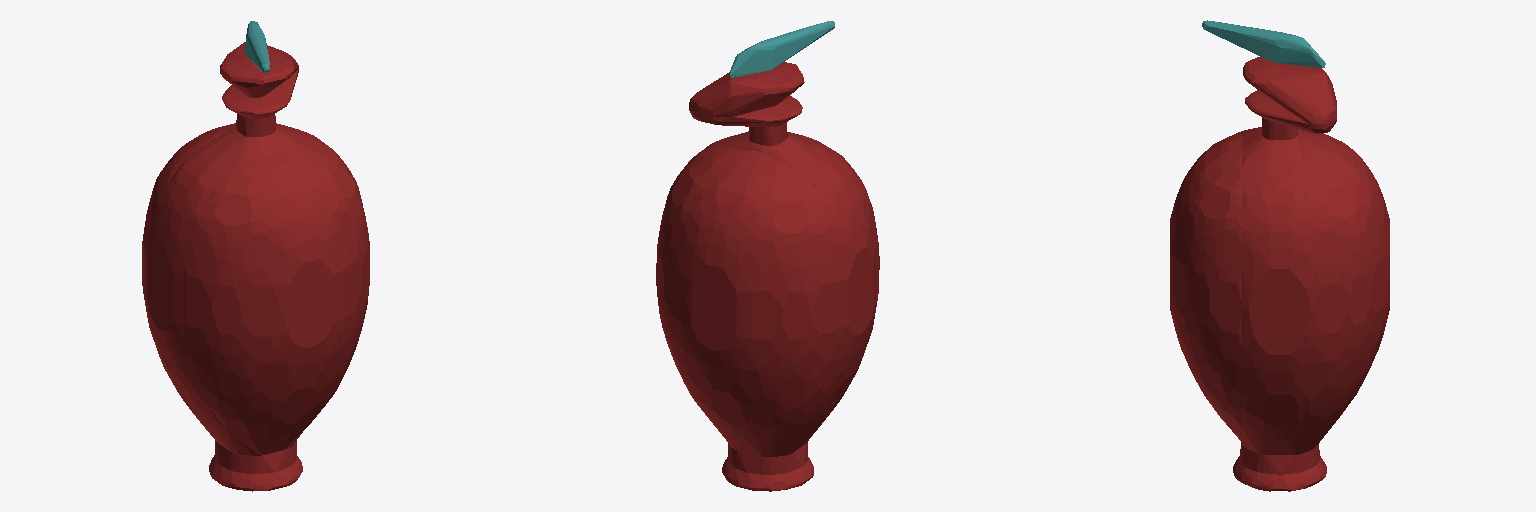
The robot description file, URDF, robot "root":
<robot name="root">
  <link name="bottle_body">
    <inertial>
      <origin xyz="0 0 0" rpy="0 0 0"/>
    </inertial>
    <mass value="1.00E-02"/>
    <visual>
      <origin xyz="0 0 0" rpy="0 0 0"/>
      <geometry>
        <mesh filename="core-bottle-adace8a468fd575037939c05190e283f-coacd_convex_piece_2.obj" scale="1.0000E-01 1.0000E-01 1.0000E-01"/>
      </geometry>
      <material name="">
        <color rgba="6.00E-01 2.00E-01 2.00E-01 1"/>
      </material>
    </visual>
    <collision>
      <origin xyz="0 0 0" rpy="0 0 0"/>
      <geometry>
        <mesh filename="core-bottle-adace8a468fd575037939c05190e283f-coacd_convex_piece_2.obj" scale="1.0000E-01 1.0000E-01 1.0000E-01"/>
      </geometry>
    </collision>
    <visual>
      <origin xyz="0 0 0" rpy="0 0 0"/>
      <geometry>
        <mesh filename="core-bottle-adace8a468fd575037939c05190e283f-coacd_convex_piece_10.obj" scale="1.0000E-01 1.0000E-01 1.0000E-01"/>
      </geometry>
      <material name="">
        <color rgba="6.00E-01 2.00E-01 2.00E-01 1"/>
      </material>
    </visual>
    <collision>
      <origin xyz="0 0 0" rpy="0 0 0"/>
      <geometry>
        <mesh filename="core-bottle-adace8a468fd575037939c05190e283f-coacd_convex_piece_10.obj" scale="1.0000E-01 1.0000E-01 1.0000E-01"/>
      </geometry>
    </collision>
    <visual>
      <origin xyz="0 0 0" rpy="0 0 0"/>
      <geometry>
        <mesh filename="core-bottle-adace8a468fd575037939c05190e283f-coacd_convex_piece_8.obj" scale="1.0000E-01 1.0000E-01 1.0000E-01"/>
      </geometry>
      <material name="">
        <color rgba="6.00E-01 2.00E-01 2.00E-01 1"/>
      </material>
    </visual>
    <collision>
      <origin xyz="0 0 0" rpy="0 0 0"/>
      <geometry>
        <mesh filename="core-bottle-adace8a468fd575037939c05190e283f-coacd_convex_piece_8.obj" scale="1.0000E-01 1.0000E-01 1.0000E-01"/>
      </geometry>
    </collision>
    <visual>
      <origin xyz="0 0 0" rpy="0 0 0"/>
      <geometry>
        <mesh filename="core-bottle-adace8a468fd575037939c05190e283f-coacd_convex_piece_4.obj" scale="1.0000E-01 1.0000E-01 1.0000E-01"/>
      </geometry>
      <material name="">
        <color rgba="6.00E-01 2.00E-01 2.00E-01 1"/>
      </material>
    </visual>
    <collision>
      <origin xyz="0 0 0" rpy="0 0 0"/>
      <geometry>
        <mesh filename="core-bottle-adace8a468fd575037939c05190e283f-coacd_convex_piece_4.obj" scale="1.0000E-01 1.0000E-01 1.0000E-01"/>
      </geometry>
    </collision>
    <visual>
      <origin xyz="0 0 0" rpy="0 0 0"/>
      <geometry>
        <mesh filename="core-bottle-adace8a468fd575037939c05190e283f-coacd_convex_piece_3.obj" scale="1.0000E-01 1.0000E-01 1.0000E-01"/>
      </geometry>
      <material name="">
        <color rgba="6.00E-01 2.00E-01 2.00E-01 1"/>
      </material>
    </visual>
    <collision>
      <origin xyz="0 0 0" rpy="0 0 0"/>
      <geometry>
        <mesh filename="core-bottle-adace8a468fd575037939c05190e283f-coacd_convex_piece_3.obj" scale="1.0000E-01 1.0000E-01 1.0000E-01"/>
      </geometry>
    </collision>
    <visual>
      <origin xyz="0 0 0" rpy="0 0 0"/>
      <geometry>
        <mesh filename="core-bottle-adace8a468fd575037939c05190e283f-coacd_convex_piece_7.obj" scale="1.0000E-01 1.0000E-01 1.0000E-01"/>
      </geometry>
      <material name="">
        <color rgba="6.00E-01 2.00E-01 2.00E-01 1"/>
      </material>
    </visual>
    <collision>
      <origin xyz="0 0 0" rpy="0 0 0"/>
      <geometry>
        <mesh filename="core-bottle-adace8a468fd575037939c05190e283f-coacd_convex_piece_7.obj" scale="1.0000E-01 1.0000E-01 1.0000E-01"/>
      </geometry>
    </collision>
    <visual>
      <origin xyz="0 0 0" rpy="0 0 0"/>
      <geometry>
        <mesh filename="core-bottle-adace8a468fd575037939c05190e283f-coacd_convex_piece_5.obj" scale="1.0000E-01 1.0000E-01 1.0000E-01"/>
      </geometry>
      <material name="">
        <color rgba="6.00E-01 2.00E-01 2.00E-01 1"/>
      </material>
    </visual>
    <collision>
      <origin xyz="0 0 0" rpy="0 0 0"/>
      <geometry>
        <mesh filename="core-bottle-adace8a468fd575037939c05190e283f-coacd_convex_piece_5.obj" scale="1.0000E-01 1.0000E-01 1.0000E-01"/>
      </geometry>
    </collision>
    <visual>
      <origin xyz="0 0 0" rpy="0 0 0"/>
      <geometry>
        <mesh filename="core-bottle-adace8a468fd575037939c05190e283f-coacd_convex_piece_6.obj" scale="1.0000E-01 1.0000E-01 1.0000E-01"/>
      </geometry>
      <material name="">
        <color rgba="6.00E-01 2.00E-01 2.00E-01 1"/>
      </material>
    </visual>
    <collision>
      <origin xyz="0 0 0" rpy="0 0 0"/>
      <geometry>
        <mesh filename="core-bottle-adace8a468fd575037939c05190e283f-coacd_convex_piece_6.obj" scale="1.0000E-01 1.0000E-01 1.0000E-01"/>
      </geometry>
    </collision>
    <visual>
      <origin xyz="0 0 0" rpy="0 0 0"/>
      <geometry>
        <mesh filename="core-bottle-adace8a468fd575037939c05190e283f-coacd_convex_piece_1.obj" scale="1.0000E-01 1.0000E-01 1.0000E-01"/>
      </geometry>
      <material name="">
        <color rgba="6.00E-01 2.00E-01 2.00E-01 1"/>
      </material>
    </visual>
    <collision>
      <origin xyz="0 0 0" rpy="0 0 0"/>
      <geometry>
        <mesh filename="core-bottle-adace8a468fd575037939c05190e283f-coacd_convex_piece_1.obj" scale="1.0000E-01 1.0000E-01 1.0000E-01"/>
      </geometry>
    </collision>
    <visual>
      <origin xyz="0 0 0" rpy="0 0 0"/>
      <geometry>
        <mesh filename="core-bottle-adace8a468fd575037939c05190e283f-coacd_convex_piece_9.obj" scale="1.0000E-01 1.0000E-01 1.0000E-01"/>
      </geometry>
      <material name="">
        <color rgba="6.00E-01 2.00E-01 2.00E-01 1"/>
      </material>
    </visual>
    <collision>
      <origin xyz="0 0 0" rpy="0 0 0"/>
      <geometry>
        <mesh filename="core-bottle-adace8a468fd575037939c05190e283f-coacd_convex_piece_9.obj" scale="1.0000E-01 1.0000E-01 1.0000E-01"/>
      </geometry>
    </collision>
    <visual>
      <origin xyz="0 0 0" rpy="0 0 0"/>
      <geometry>
        <mesh filename="core-bottle-adace8a468fd575037939c05190e283f-coacd_convex_piece_12.obj" scale="1.0000E-01 1.0000E-01 1.0000E-01"/>
      </geometry>
      <material name="">
        <color rgba="6.00E-01 2.00E-01 2.00E-01 1"/>
      </material>
    </visual>
    <collision>
      <origin xyz="0 0 0" rpy="0 0 0"/>
      <geometry>
        <mesh filename="core-bottle-adace8a468fd575037939c05190e283f-coacd_convex_piece_12.obj" scale="1.0000E-01 1.0000E-01 1.0000E-01"/>
      </geometry>
    </collision>
    <visual>
      <origin xyz="0 0 0" rpy="0 0 0"/>
      <geometry>
        <mesh filename="core-bottle-adace8a468fd575037939c05190e283f-coacd_convex_piece_11.obj" scale="1.0000E-01 1.0000E-01 1.0000E-01"/>
      </geometry>
      <material name="">
        <color rgba="6.00E-01 2.00E-01 2.00E-01 1"/>
      </material>
    </visual>
    <collision>
      <origin xyz="0 0 0" rpy="0 0 0"/>
      <geometry>
        <mesh filename="core-bottle-adace8a468fd575037939c05190e283f-coacd_convex_piece_11.obj" scale="1.0000E-01 1.0000E-01 1.0000E-01"/>
      </geometry>
    </collision>
  </link>
  <link name="bottle_cap">
    <origin xyz="0 0 0.002" rpy="0 0 0"/>
    <mass value="1.00E-02"/>
    <visual>
      <origin xyz="0 0 0.002" rpy="0 0 0"/>
      <geometry>
        <mesh filename="core-bottle-adace8a468fd575037939c05190e283f-coacd_convex_piece_0.obj" scale="1.0000E-01 1.0000E-01 1.0000E-01"/>
      </geometry>
      <material name="">
        <color rgba="3.00E-01 6.00E-01 6.00E-01 1"/>
      </material>
    </visual>
    <collision>
      <origin xyz="0 0 0.002" rpy="0 0 0"/>
      <geometry>
        <mesh filename="core-bottle-adace8a468fd575037939c05190e283f-coacd_convex_piece_0.obj" scale="1.0000E-01 1.0000E-01 1.0000E-01"/>
      </geometry>
    </collision>
  </link>
  <joint name="bottle_cap_joint" type="revolute">
    <origin xyz="0 0 0" rpy="0 0 0"/>
    <parent link="bottle_body"/>
    <child link="bottle_cap"/>
    <axis xyz="0 0 1"/>
    <limit lower="0.00" upper="6.28"/>
    <dynamics damping="0.05"/>
  </joint>
</robot>

--- What the picture shows (computed from the rendered views, not written in the file) ---
Views: 3 orthographic renders of the robot side by side, from view 1: azimuth 30°, elevation 25°; view 2: azimuth 150°, elevation 25°; view 3: azimuth 270°, elevation 25°.
Robot: root — 2 links, 1 joints (1 revolute); root link bottle_body; default pose: all joints at 0.
Visible links, largest first — view 1: bottle_body, bottle_cap; view 2: bottle_body, bottle_cap; view 3: bottle_body, bottle_cap.
Boxes of the visible links, left/top/right/bottom form: bottle_body: left=142, top=42, right=369, bottom=491; bottle_cap: left=244, top=21, right=269, bottom=72; bottle_body: left=656, top=62, right=879, bottom=491; bottle_cap: left=729, top=21, right=834, bottom=77; bottle_body: left=1170, top=57, right=1389, bottom=491; bottle_cap: left=1202, top=20, right=1325, bottom=67.
Bounding box of the posed robot: 0.085 × 0.085 × 0.1882 m (x, y, z).
13 mesh visuals loaded from 13 distinct referenced files (13 OBJ).